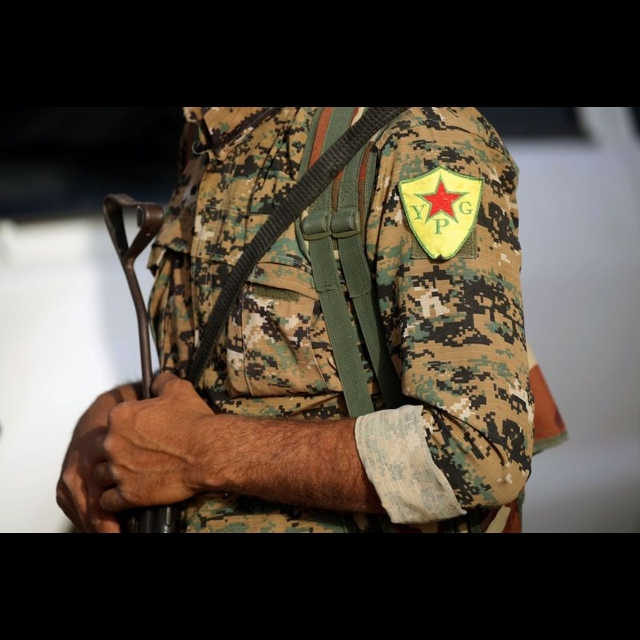YPG: (408, 175, 473, 240)
